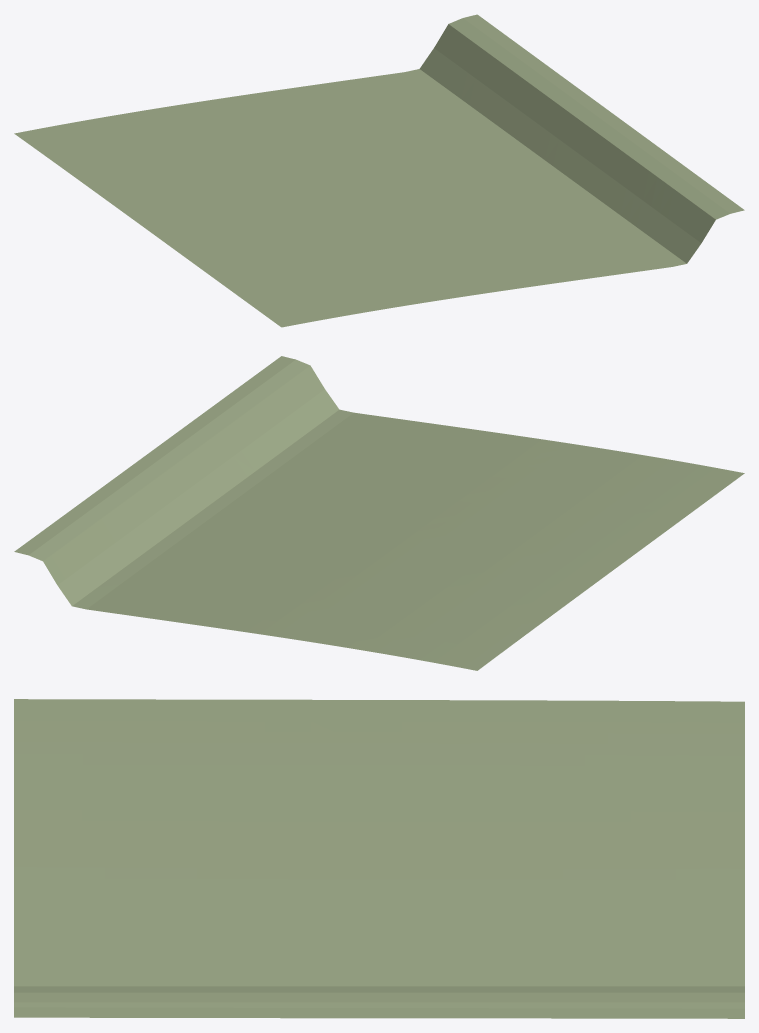
File: valley-7-10.glb
3 views of the same model, one above another, from view 1: azimuth 30°, elevation 25°; view 2: azimuth 150°, elevation 25°; view 3: azimuth 270°, elevation 25° (orthographic). The views are drawn at different scales.
Parts seen in each view (by area): view 1: valley-7-10; view 2: valley-7-10; view 3: valley-7-10.
Boxes of the visible parts, left/top/right/bottom form: valley-7-10: left=14, top=14, right=744, bottom=327; valley-7-10: left=14, top=356, right=744, bottom=670; valley-7-10: left=14, top=699, right=744, bottom=1018.
Bounding box in the file's own units: 256 × 21.3 × 256.
